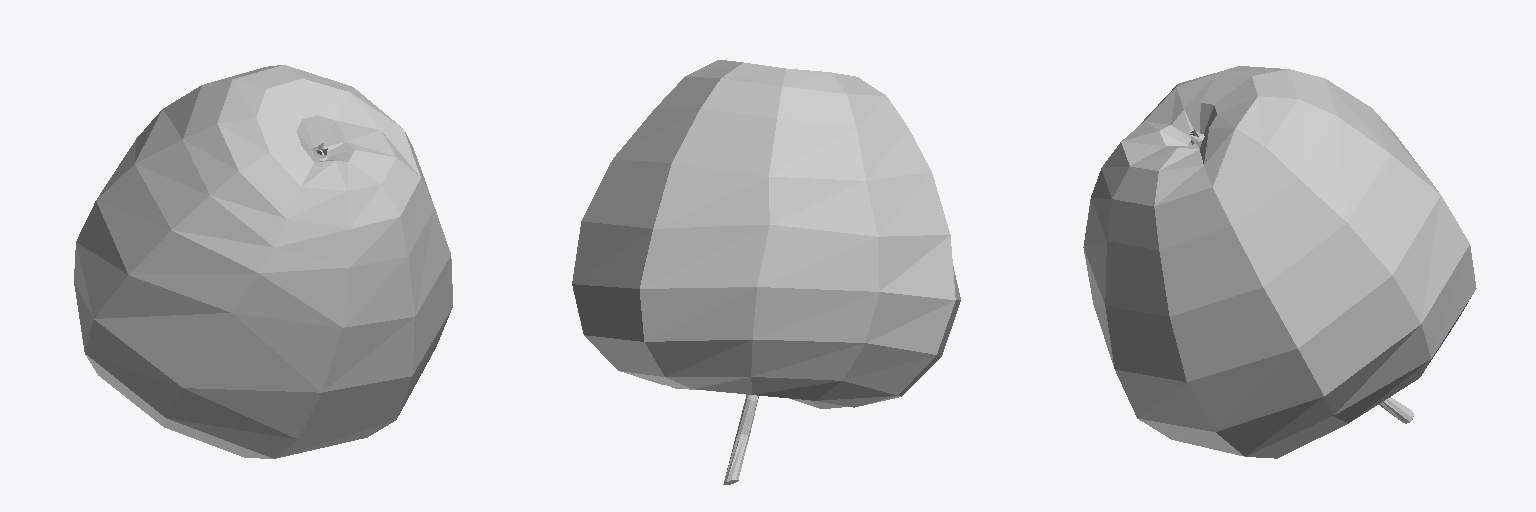
File: apple_for_cycles.obj
3 views of the same model, side by side, from view 1: azimuth 30°, elevation 25°; view 2: azimuth 150°, elevation 25°; view 3: azimuth 270°, elevation 25° (orthographic).
Visible parts, largest first — view 1: pSphere6_Untitled.002; view 2: pSphere6_Untitled.002; view 3: pSphere6_Untitled.002.
Boxes of the visible parts, x1=… form: pSphere6_Untitled.002: x1=74, y1=65, x2=452, y2=458; pSphere6_Untitled.002: x1=572, y1=60, x2=960, y2=484; pSphere6_Untitled.002: x1=1083, y1=66, x2=1476, y2=458.
Bounding box in the file's own units: 3.7 × 3.6 × 3.6.